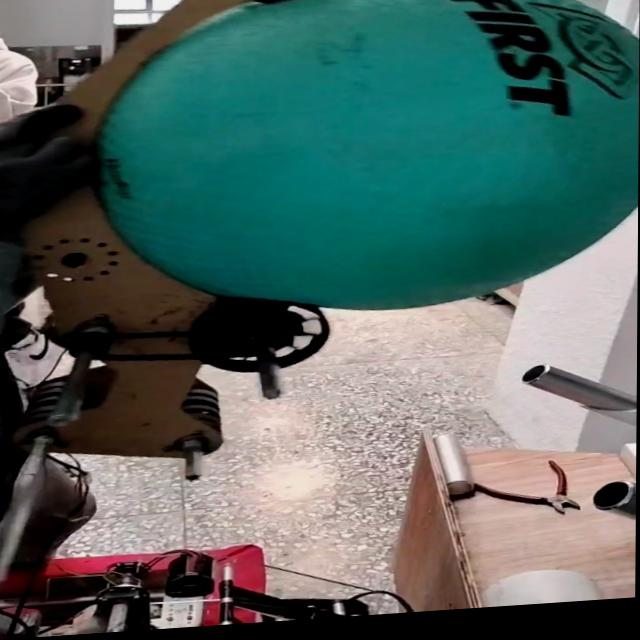ALGAE: (93, 0, 639, 326)
CORAL: (473, 546, 611, 608)
